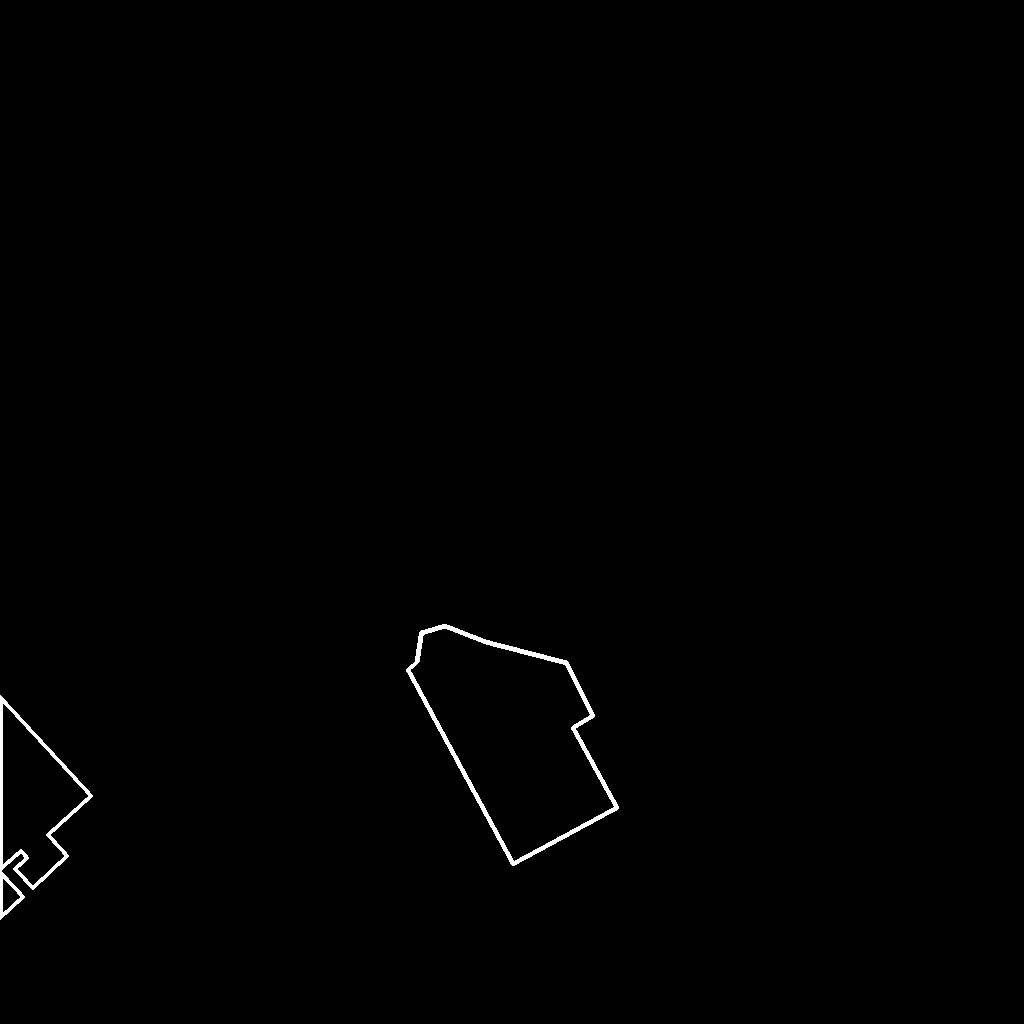building: (408, 626, 618, 865), (0, 697, 92, 919)
